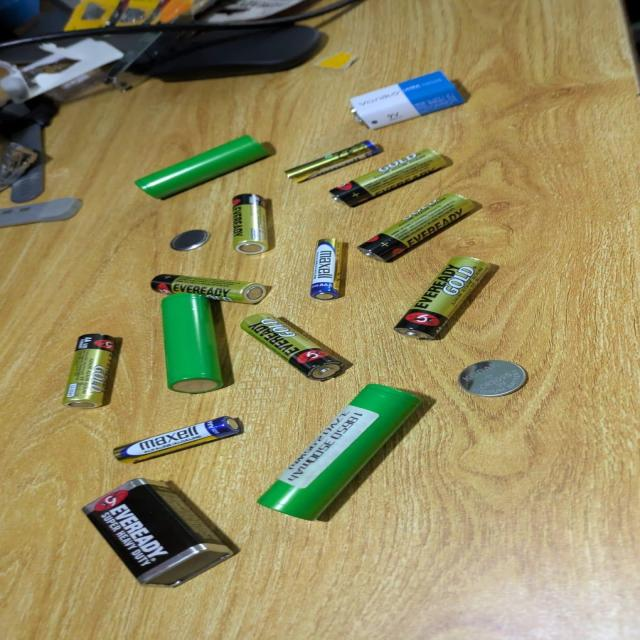9V: (82, 478, 237, 586), (347, 70, 467, 129)
AA: (355, 192, 476, 263), (391, 258, 495, 336), (325, 148, 451, 207), (239, 314, 346, 380), (63, 333, 118, 408), (150, 273, 268, 303), (231, 193, 271, 254)
AAA: (103, 412, 253, 469), (279, 134, 392, 191), (304, 232, 351, 303)
COIN: (456, 359, 528, 398), (168, 230, 211, 252)
